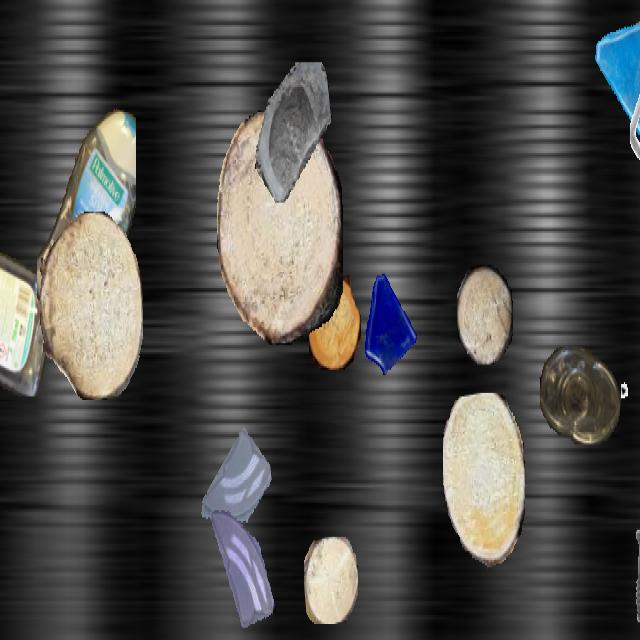glass: (253, 62, 331, 201), (204, 507, 278, 638), (199, 423, 271, 551), (591, 2, 640, 140), (359, 269, 419, 375)
metal: (614, 528, 640, 628), (620, 92, 640, 164), (621, 366, 640, 434)
plastic: (37, 102, 135, 340), (0, 247, 54, 397), (540, 347, 620, 442), (616, 21, 640, 235)
wood: (217, 109, 343, 343), (40, 212, 142, 400), (443, 393, 525, 567), (457, 265, 513, 364), (308, 276, 360, 368), (304, 537, 358, 622)
